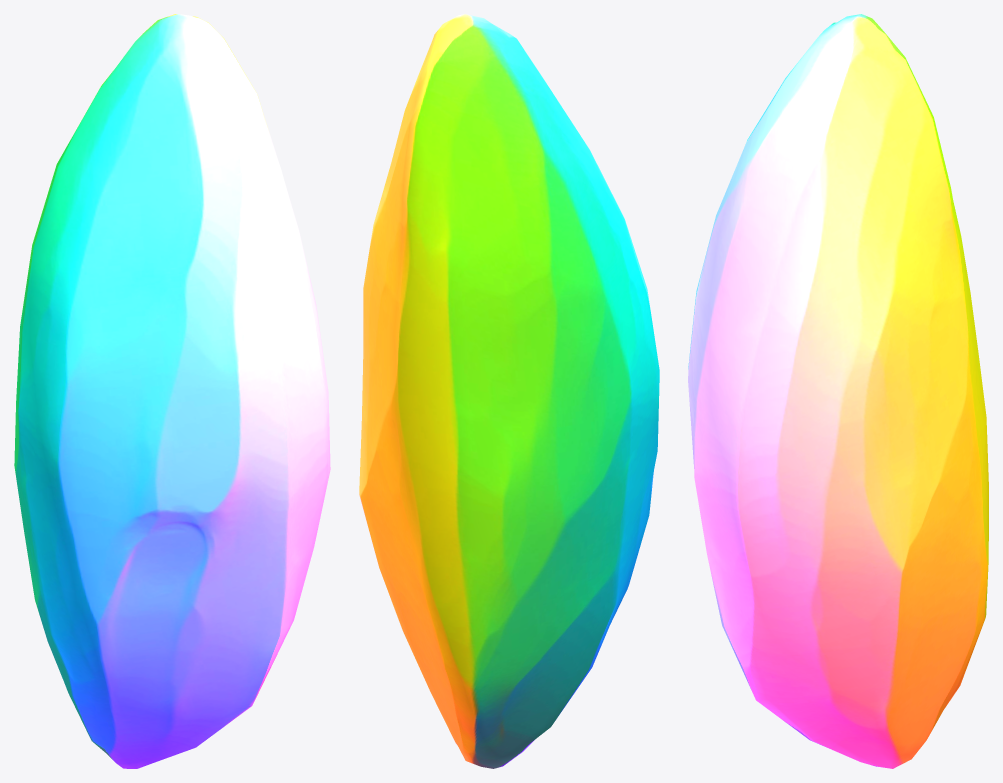
The model's file is color-stone.glb.
3 views of the same model, side by side, from view 1: azimuth 30°, elevation 25°; view 2: azimuth 150°, elevation 25°; view 3: azimuth 270°, elevation 25° (orthographic). The views are drawn at different scales.
Visible parts, largest first — view 1: Crystall_001_lp; view 2: Crystall_001_lp; view 3: Crystall_001_lp.
Boxes of the visible parts, x1,y1,x2,y2 form: Crystall_001_lp: (14, 14, 330, 768); Crystall_001_lp: (359, 14, 659, 768); Crystall_001_lp: (688, 14, 988, 768).
Bounding box in the file's own units: 0.7628 × 2 × 0.7121.
1 material, 1 textured.
